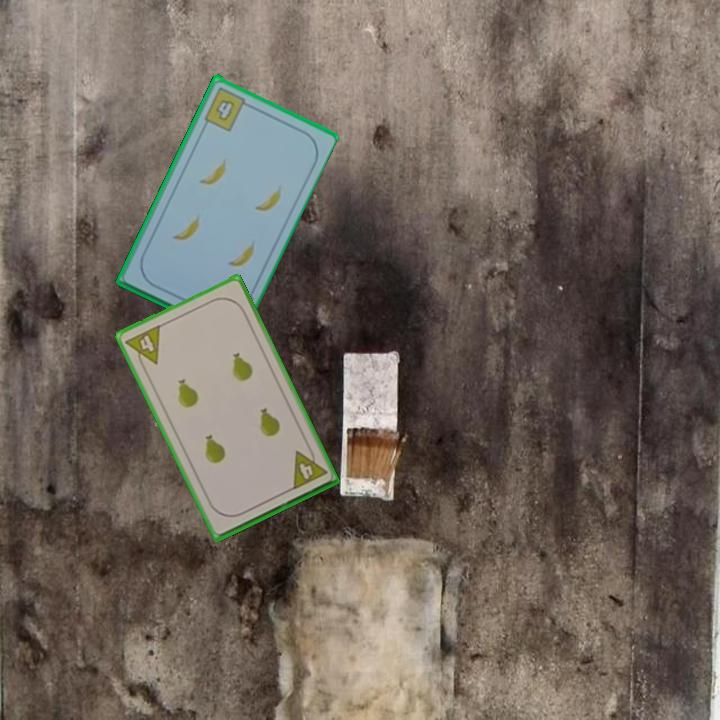4b: (200, 83, 253, 134)
4p: (121, 321, 163, 373), (288, 442, 330, 493)
